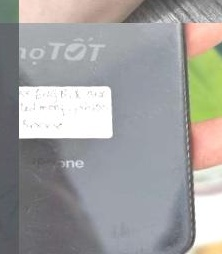scratch: (19, 23, 215, 254)
